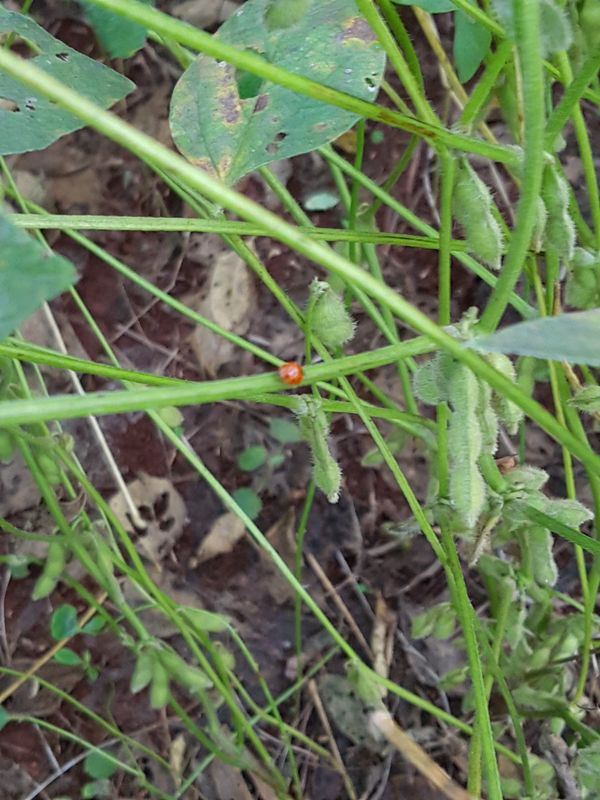Coccinellidae: (270, 355, 314, 395)
